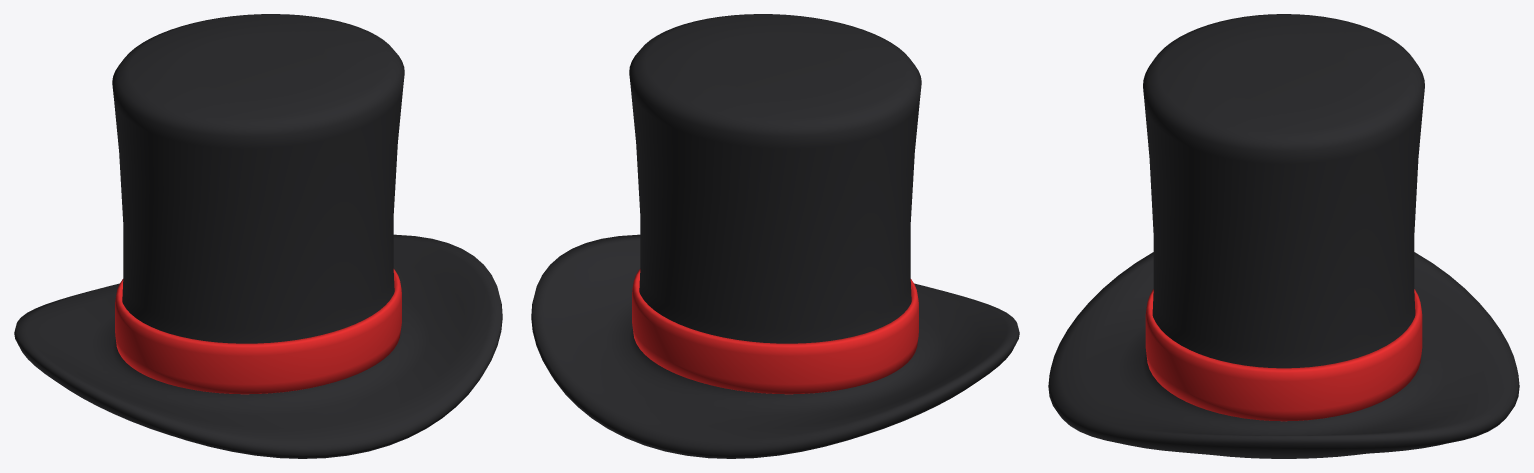
Rendered from TopHat.glb.
The picture shows the model from 3 angles, left to right: view 1: azimuth 30°, elevation 25°; view 2: azimuth 150°, elevation 25°; view 3: azimuth 270°, elevation 25°; orthographic projection. The views are drawn at different scales.
Parts seen in each view (by area): view 1: TopHat; view 2: TopHat; view 3: TopHat.
Boxes of the visible parts, <box> form: TopHat: <box>14,14,502,458</box>; TopHat: <box>531,14,1019,458</box>; TopHat: <box>1048,14,1519,458</box>.
Size of the model in its own units: 1.77 by 1.2 by 1.59.
